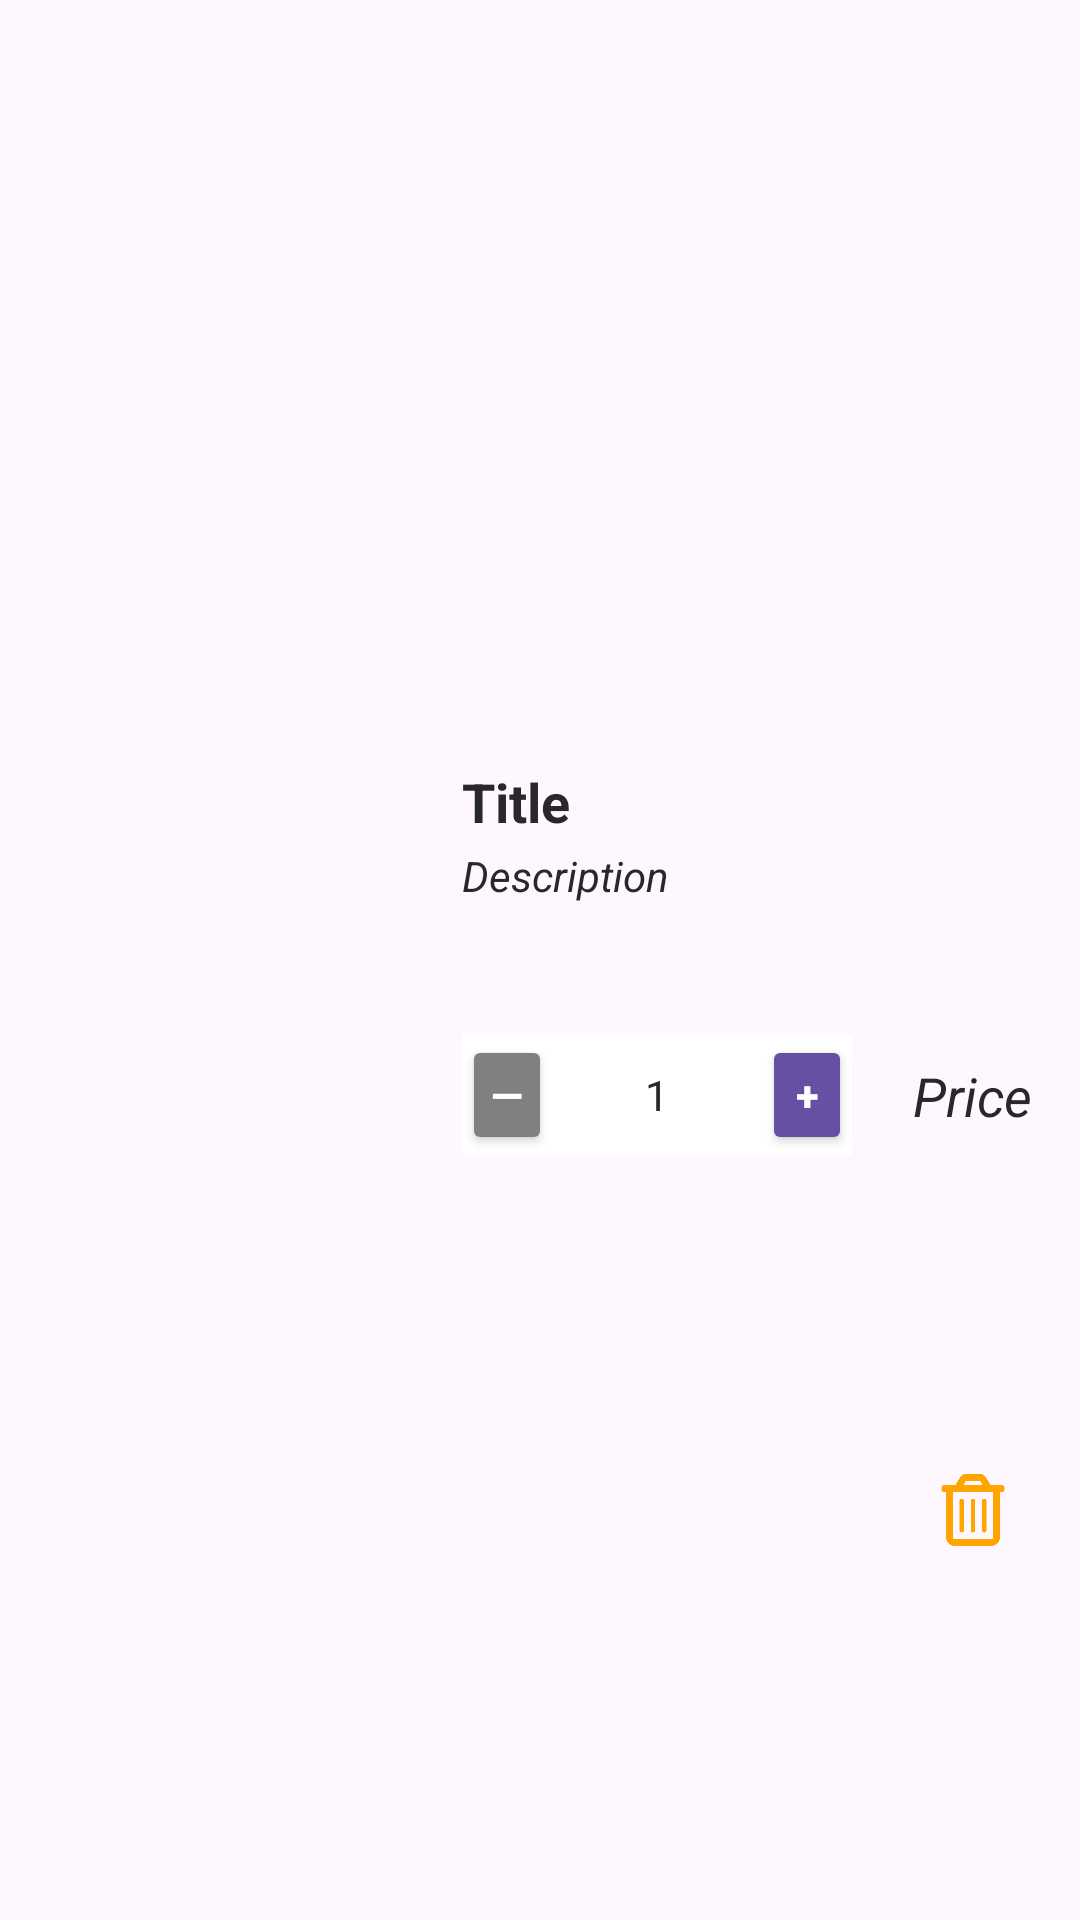

Icon click points for this 1080x1920 phone screenshot, format (x,y):
remove product: (973,1510)
